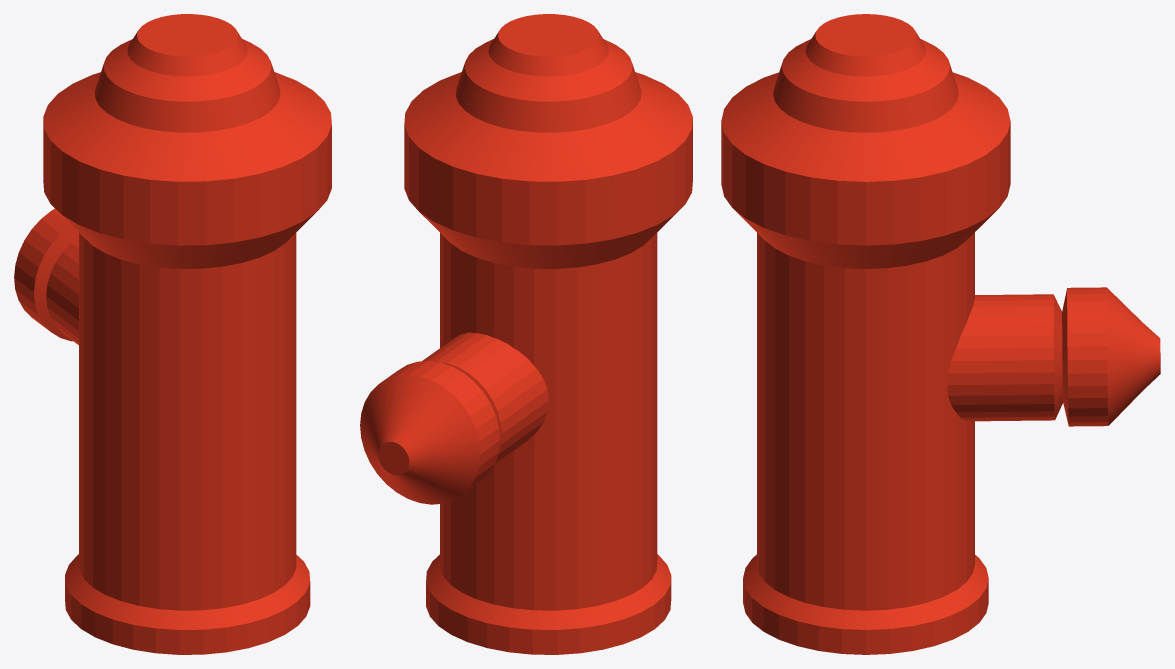
File: hydrant.fbx
3 views of the same model, side by side, from view 1: azimuth 30°, elevation 25°; view 2: azimuth 150°, elevation 25°; view 3: azimuth 270°, elevation 25° (orthographic).
Visible parts, largest first — view 1: Cylinder, Cylinder.001; view 2: Cylinder, Cylinder.001; view 3: Cylinder, Cylinder.001.
Boxes of the visible parts, x1=… form: Cylinder: x1=43, y1=14, x2=331, y2=654; Cylinder.001: x1=14, y1=209, x2=78, y2=344; Cylinder: x1=404, y1=14, x2=692, y2=654; Cylinder.001: x1=360, y1=332, x2=548, y2=504; Cylinder: x1=721, y1=14, x2=1010, y2=654; Cylinder.001: x1=947, y1=287, x2=1160, y2=426.
Size of the model in its own units: 265 by 575 by 403.
